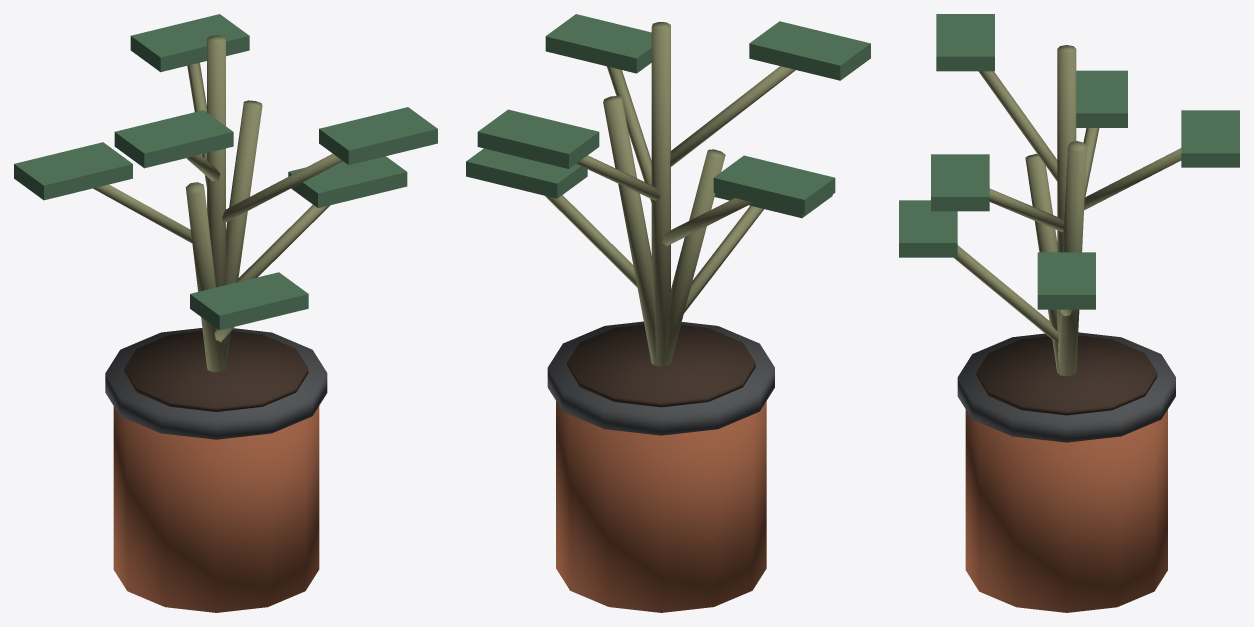
File: potted_plant.glb
The picture shows the model from 3 angles, left to right: view 1: azimuth 30°, elevation 25°; view 2: azimuth 150°, elevation 25°; view 3: azimuth 270°, elevation 25°; orthographic projection. The views are drawn at different scales.
Parts seen in each view (by area): view 1: potted_plant; view 2: potted_plant; view 3: potted_plant.
Part boxes in pixels (x1=…): potted_plant: x1=14, y1=14, x2=437, y2=612; potted_plant: x1=466, y1=14, x2=870, y2=612; potted_plant: x1=899, y1=14, x2=1239, y2=612.
Bounding box in the file's own units: 0.74 × 1.08 × 0.64.
